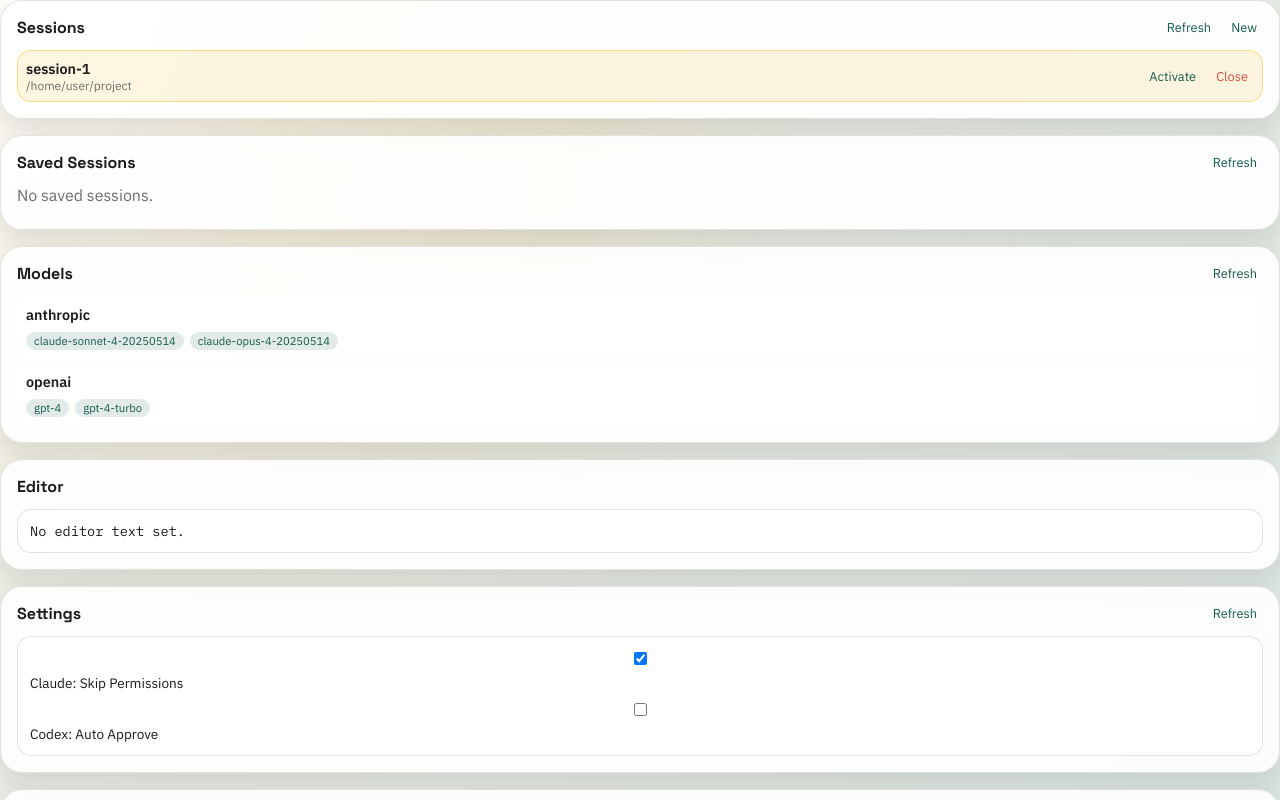
Test: Sidebar › Form Defaults from Active Session › pre-fills provider from active session stats
Click the button "New". click: (1244, 28)
box: [1225,18,1263,37]
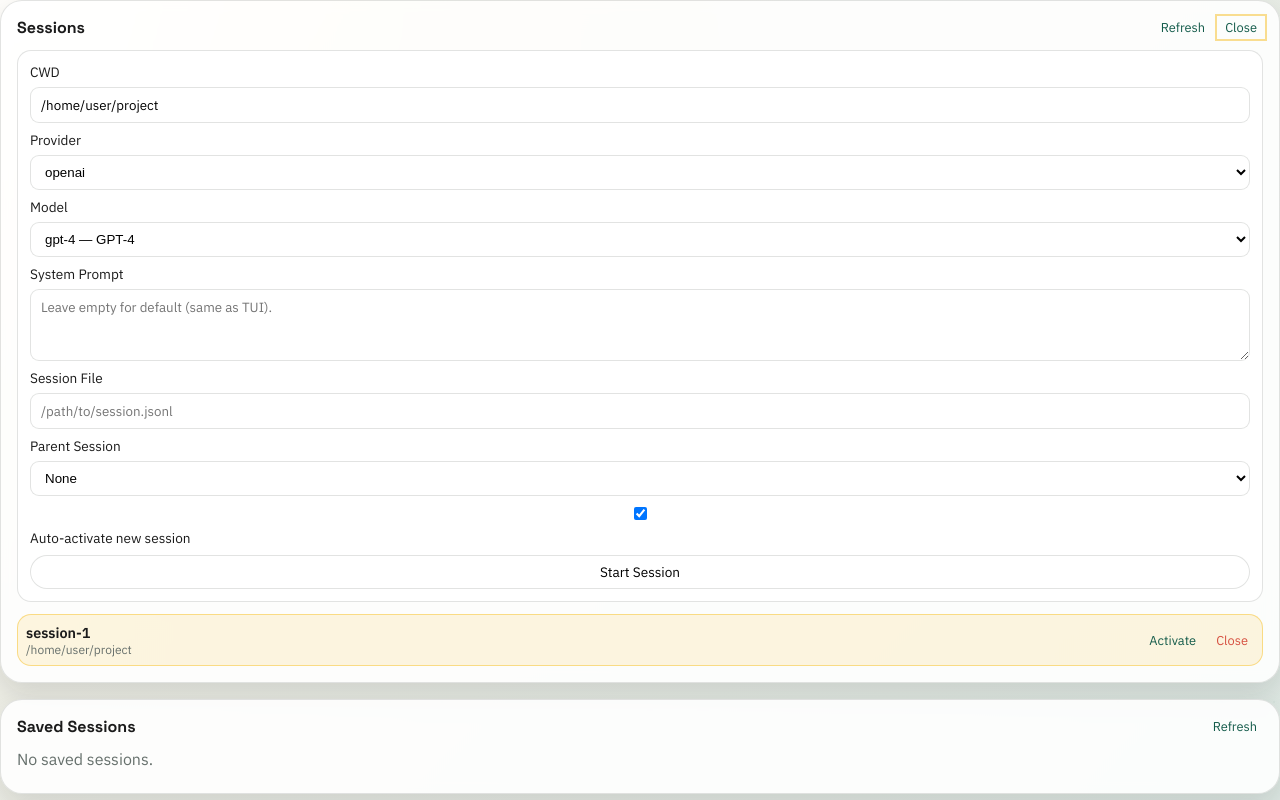
expect the dropdown labelled "Provider" shows "openai": met, box [30,155,1250,190]
